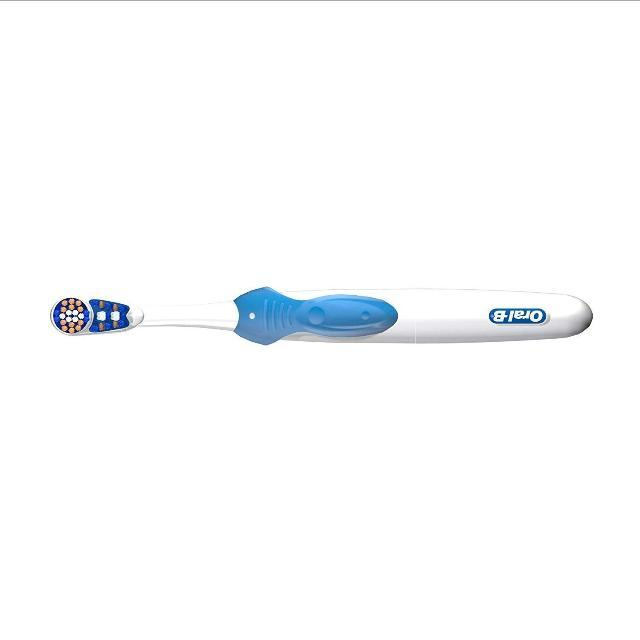toothbrush: (25, 230, 640, 442)
